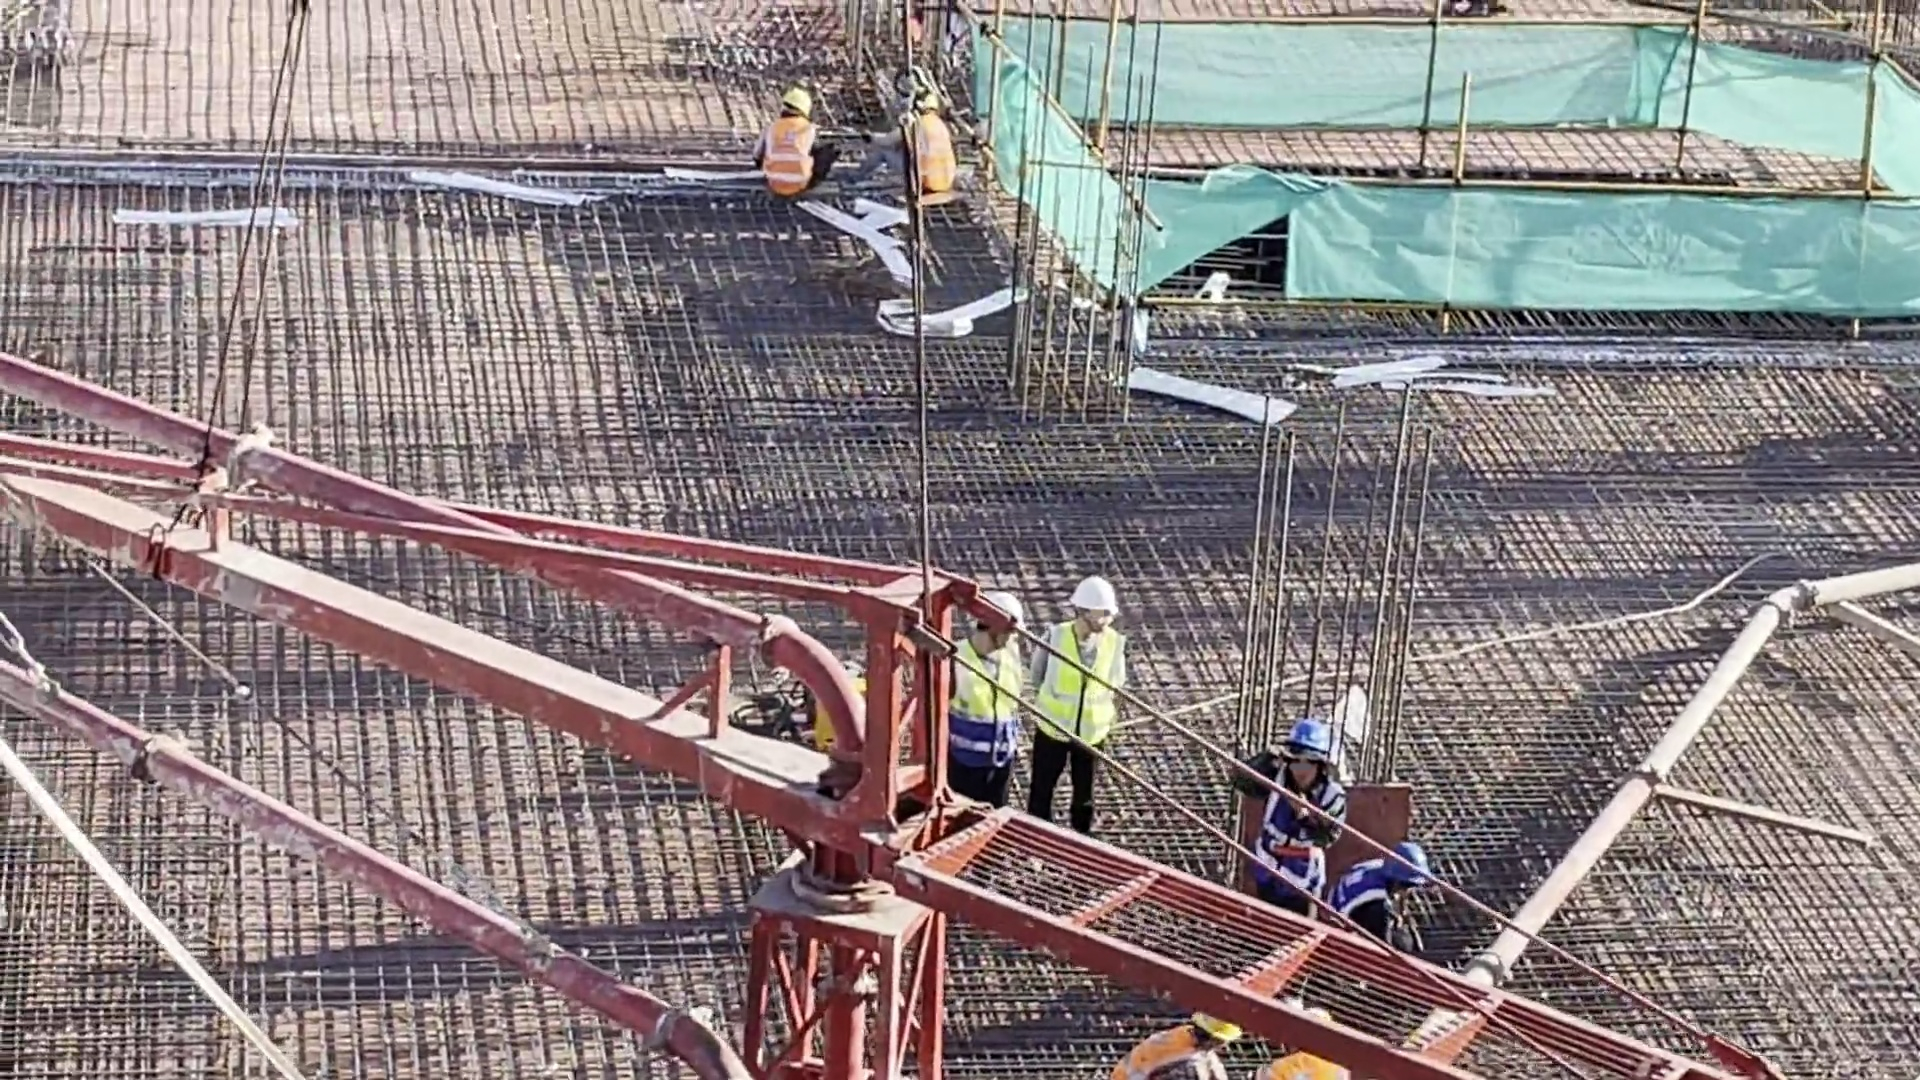helmet: (1061, 575, 1119, 619), (1192, 1014, 1250, 1045), (1396, 841, 1432, 890), (1292, 717, 1330, 756), (989, 590, 1027, 619), (773, 83, 805, 115), (911, 99, 939, 114)
person: (1032, 567, 1140, 858), (1230, 720, 1356, 935), (923, 587, 1026, 815), (1319, 839, 1443, 968), (843, 78, 956, 208), (1096, 993, 1237, 1080), (751, 79, 836, 206)
vest: (947, 660, 1019, 765), (1040, 648, 1111, 749), (1274, 780, 1339, 867), (1125, 1021, 1211, 1080), (1332, 868, 1396, 938), (759, 113, 813, 190), (915, 122, 953, 195), (1261, 1048, 1347, 1080)
